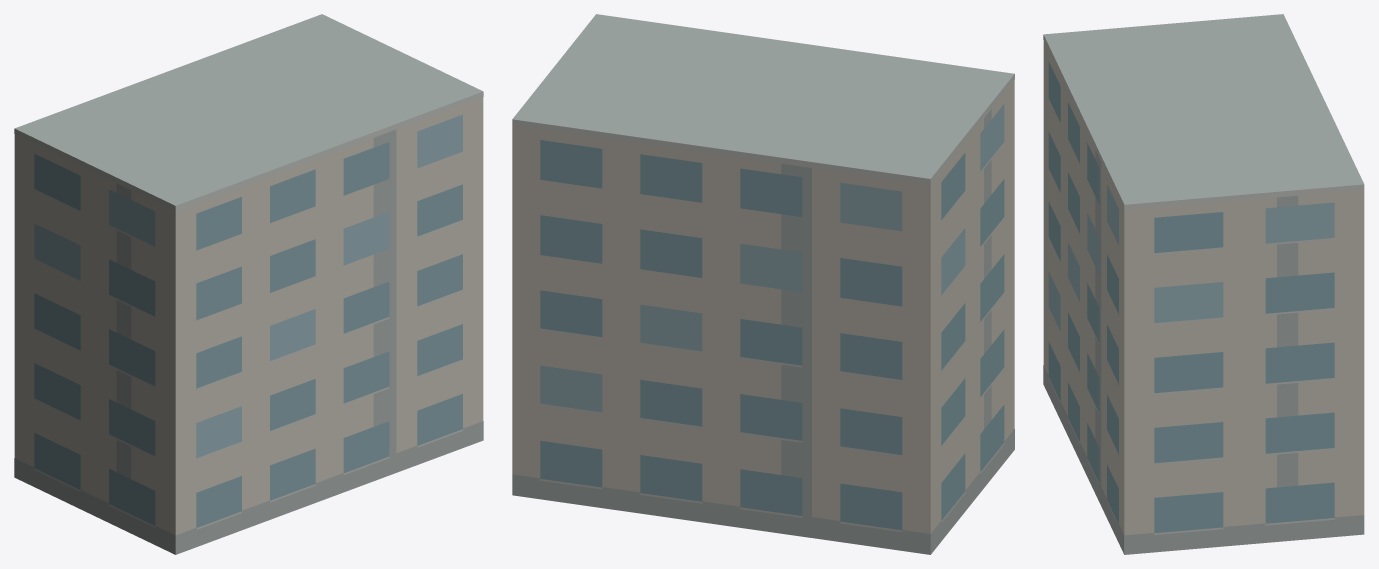
File: residential-7ab70cce-7bfe-4d9d-91a1-db3f7caeb507.glb
3 views of the same model, side by side, from view 1: azimuth 30°, elevation 25°; view 2: azimuth 150°, elevation 25°; view 3: azimuth 270°, elevation 25° (orthographic). The views are drawn at different scales.
Visible parts, largest first — view 1: residential-7ab70cce-7bfe-4d9d-91a1-db3f7caeb507.tmp; view 2: residential-7ab70cce-7bfe-4d9d-91a1-db3f7caeb507.tmp; view 3: residential-7ab70cce-7bfe-4d9d-91a1-db3f7caeb507.tmp.
Part boxes in pixels (<box>): residential-7ab70cce-7bfe-4d9d-91a1-db3f7caeb507.tmp: <box>14,14,483,554</box>; residential-7ab70cce-7bfe-4d9d-91a1-db3f7caeb507.tmp: <box>512,14,1014,554</box>; residential-7ab70cce-7bfe-4d9d-91a1-db3f7caeb507.tmp: <box>1043,14,1364,554</box>.
Bounding box in the file's own units: 17.83 × 15.25 × 12.68.
